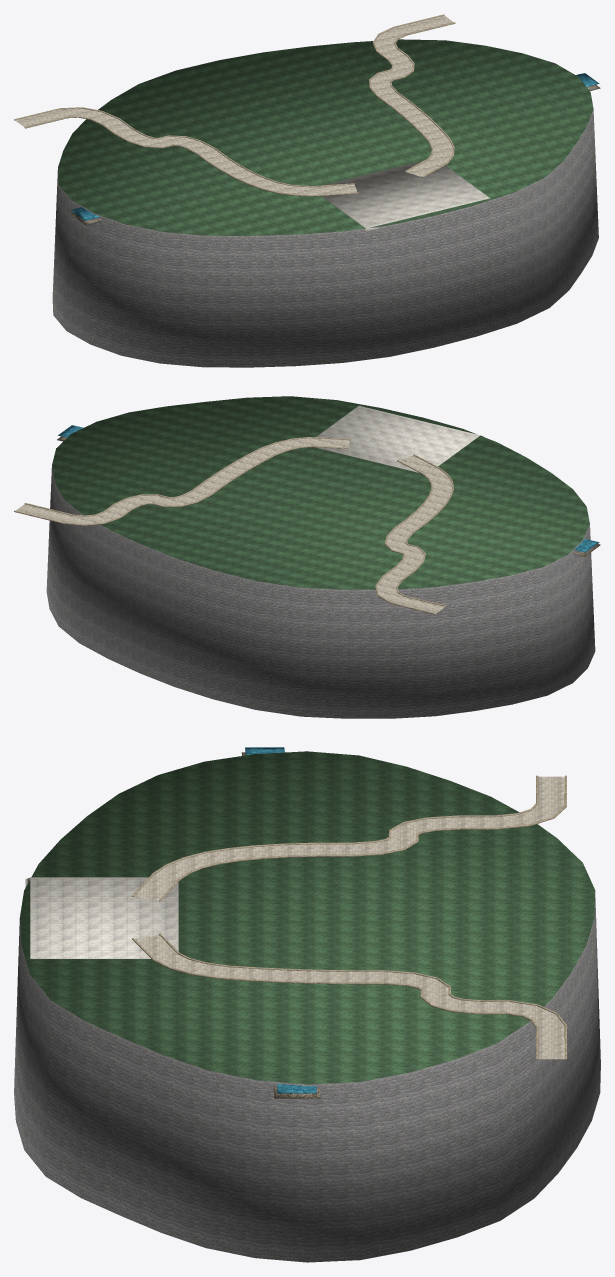
The model's file is 10_ZboczaOlimpu_teren.glb.
3 views of the same model, one above another, from view 1: azimuth 30°, elevation 25°; view 2: azimuth 150°, elevation 25°; view 3: azimuth 270°, elevation 25° (orthographic). The views are drawn at different scales.
Visible parts, largest first — view 1: summit, sanctum, path_1.004, path_0.009; view 2: summit, sanctum, path_1.004, path_0.009; view 3: summit, sanctum, path_1.004, path_0.009.
Boxes of the visible parts, x1,y1,x2,y2 form: summit: (52, 39, 598, 367); sanctum: (322, 161, 489, 231); path_1.004: (370, 15, 453, 176); path_0.009: (15, 108, 357, 194); summit: (46, 396, 595, 718); sanctum: (315, 405, 483, 472); path_1.004: (16, 438, 350, 524); path_0.009: (377, 455, 452, 613); summit: (14, 751, 600, 1262); sanctum: (25, 877, 178, 958); path_1.004: (135, 935, 564, 1059); path_0.009: (134, 776, 564, 900).
Size of the model in its own units: 255 by 60.44 by 183.
Materials: 8 (8 with a texture image).
